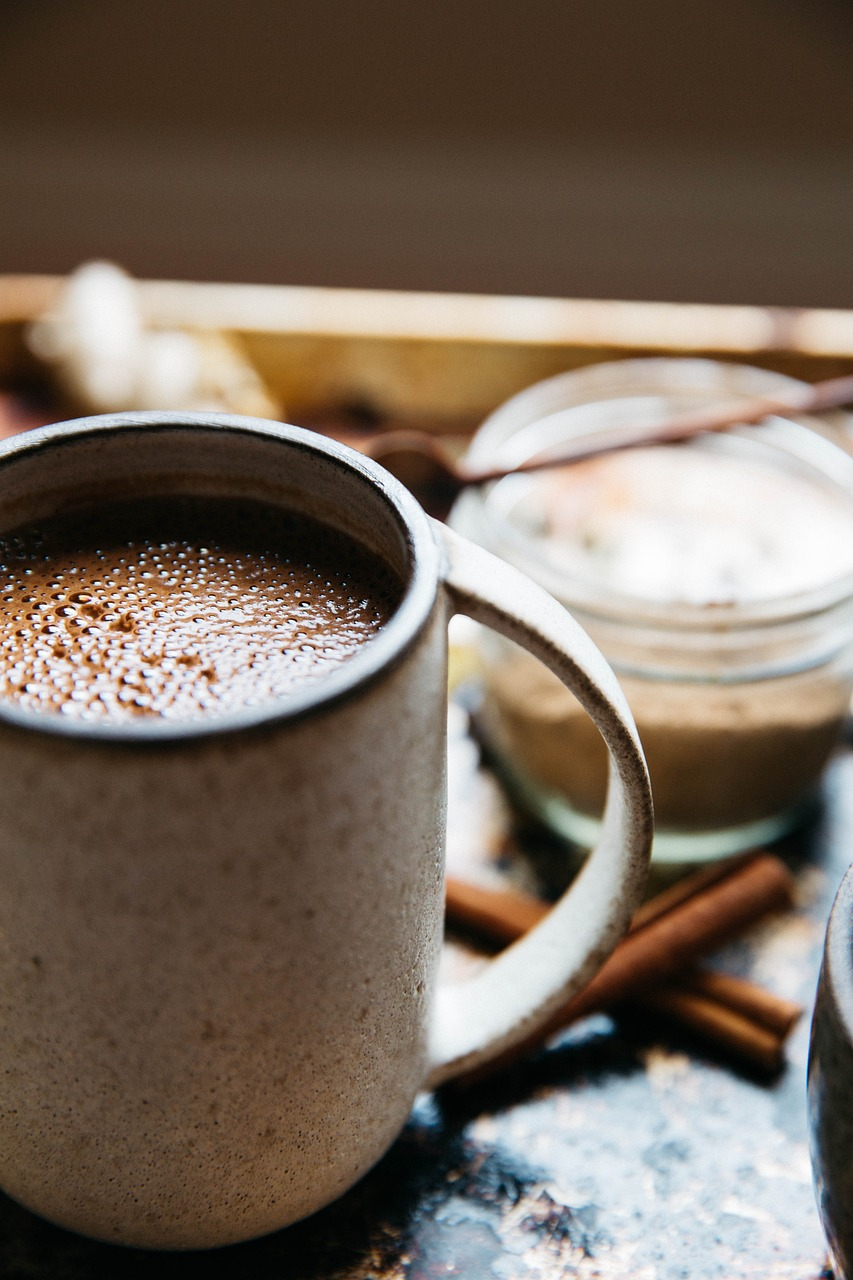mug: (1, 374, 663, 1278)
